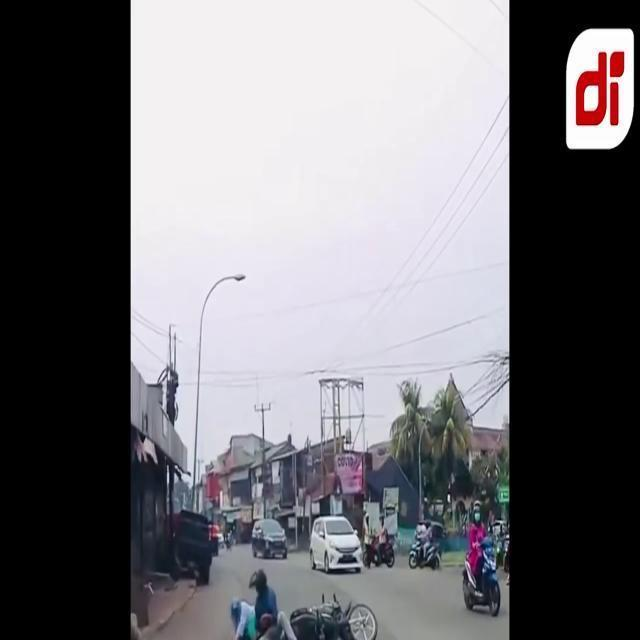accident: (291, 606, 379, 640)
non-accident: (362, 511, 394, 571)
